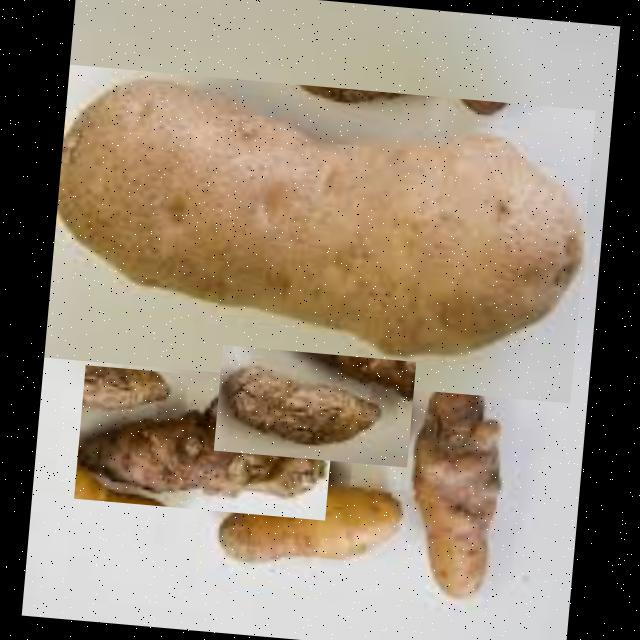Damaged potato: (43, 63, 596, 402), (74, 364, 336, 519), (211, 452, 405, 599), (402, 368, 516, 614), (213, 344, 416, 466)
